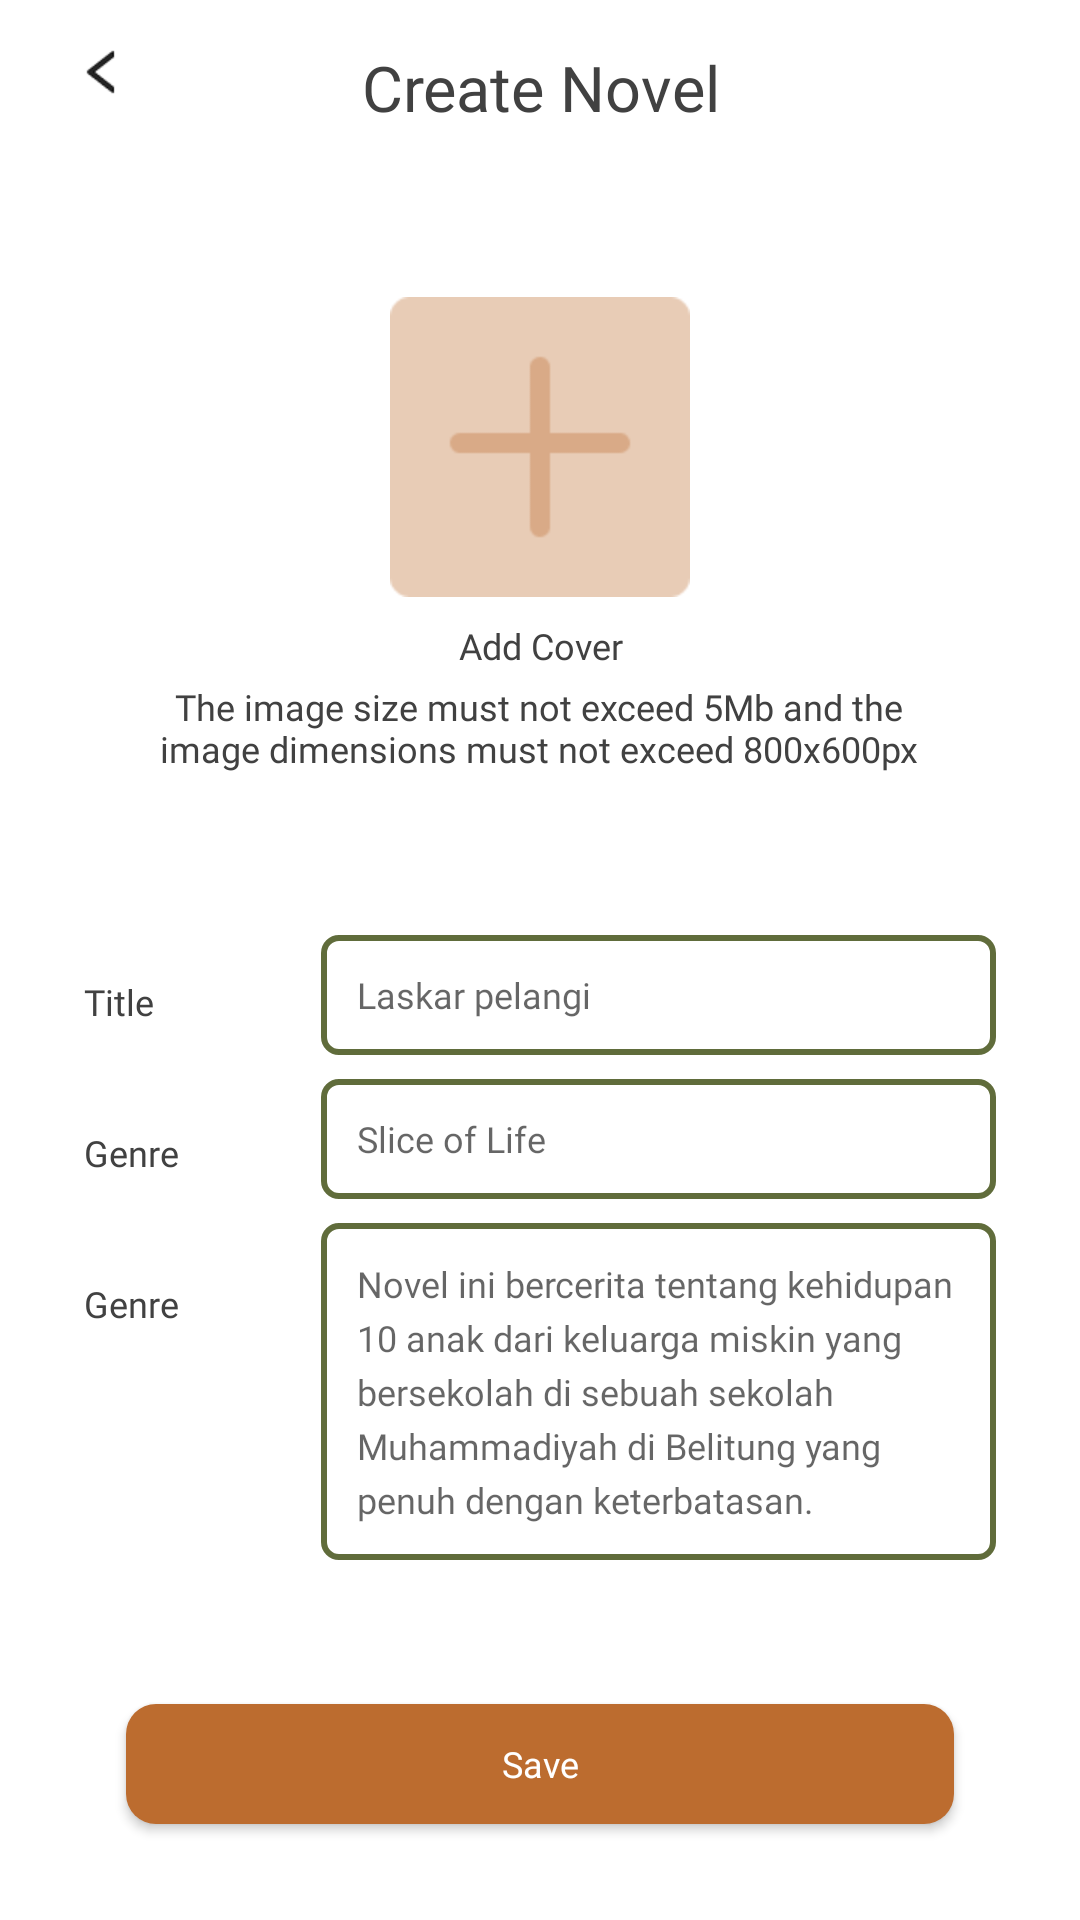

Named icons in this screenshot (1080*1920) and their centers, (x,y):
arrow left: (100,72)
